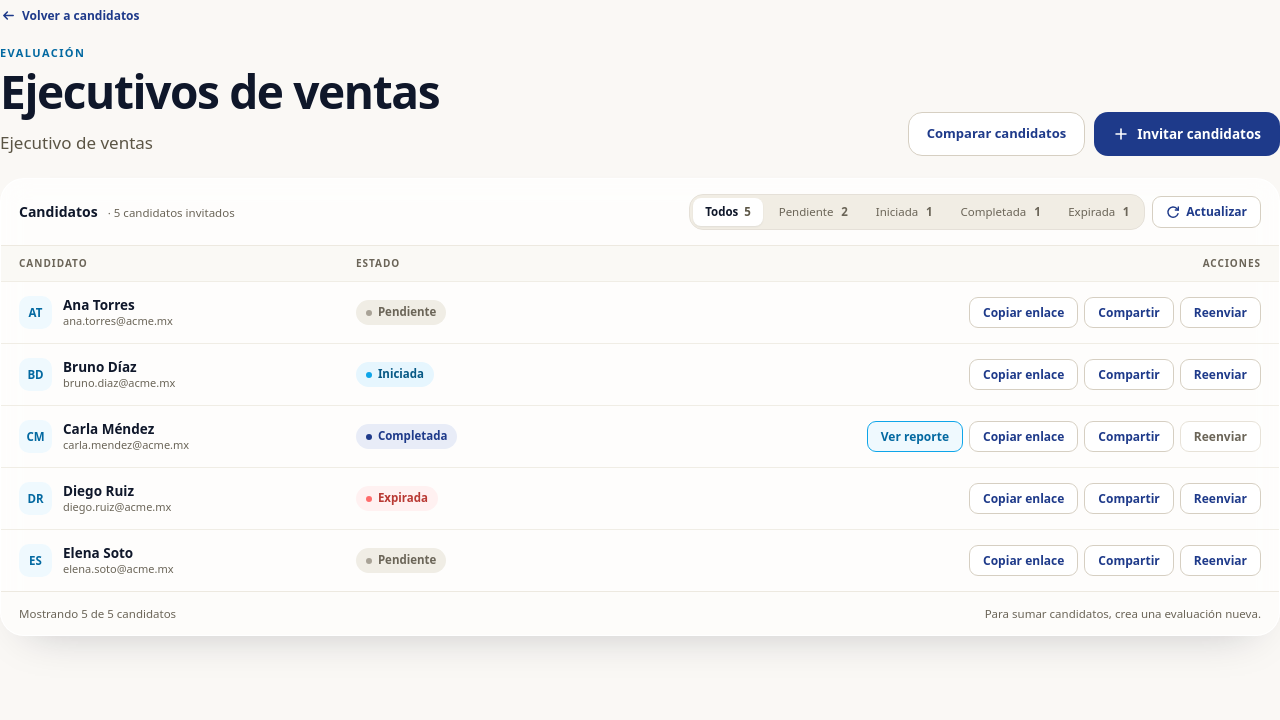
Test: EvaluacionDetallePage · encabezado y tabla › si falla la lista de evaluaciones, no afirma nada sobre las fechas
Click the button named "Compartir la invitación de Ana Torres" at x=1129, y=313, box [1084,297,1174,328]
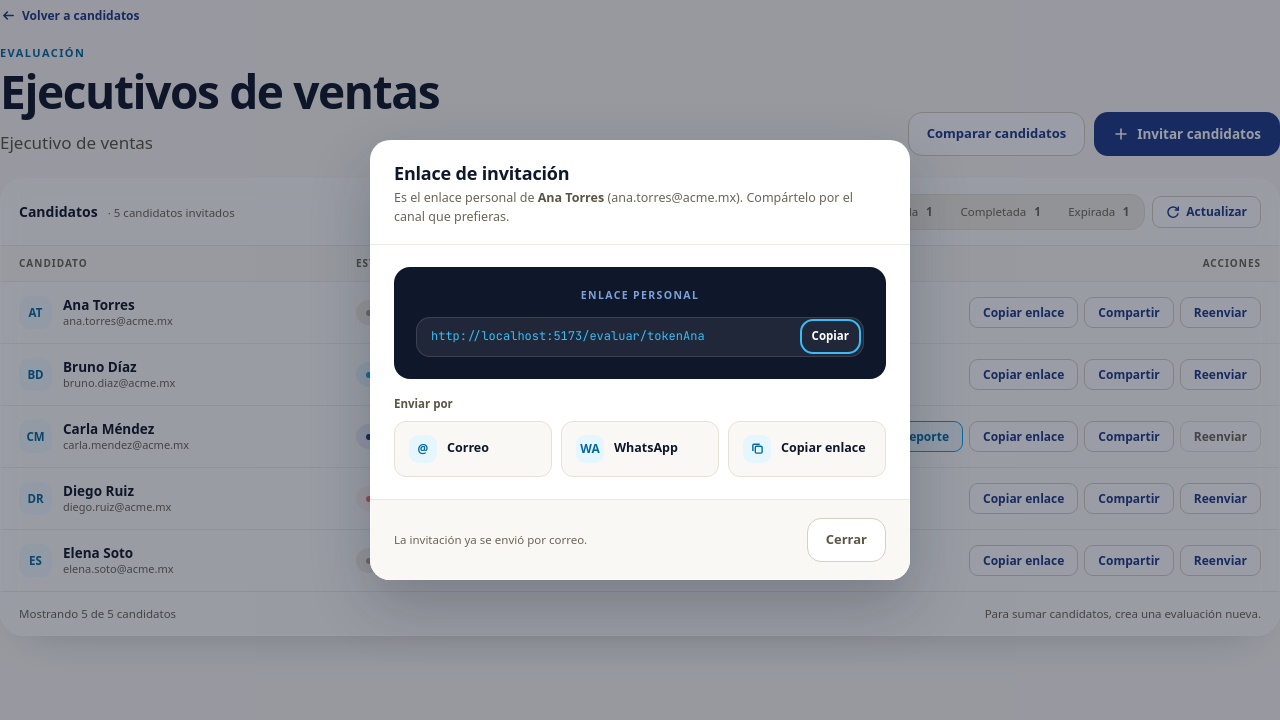
Now the text "La invitación ya se envió por correo." is shown, box [394,532,587,547]
